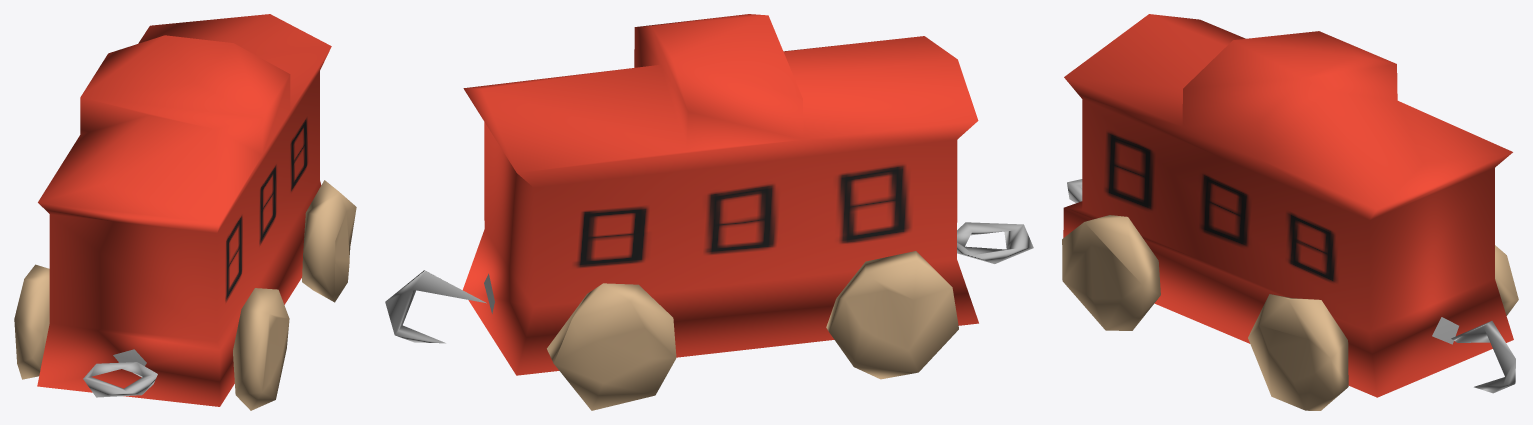
The model's file is red_LOD1.fbx.
3 renders of one model, left to right at view 1: azimuth 30°, elevation 25°; view 2: azimuth 150°, elevation 25°; view 3: azimuth 270°, elevation 25°, orthographic. The views are drawn at different scales.
Parts seen in each view (by area): view 1: vagonefinale; view 2: vagonefinale; view 3: vagonefinale.
Boxes of the visible parts, <box> form: vagonefinale: <box>14,14,356,410</box>; vagonefinale: <box>385,14,1033,410</box>; vagonefinale: <box>1062,14,1518,410</box>.
Size of the model in its own units: 468 by 326 by 470.
Materials: 3 (1 with a texture image).
